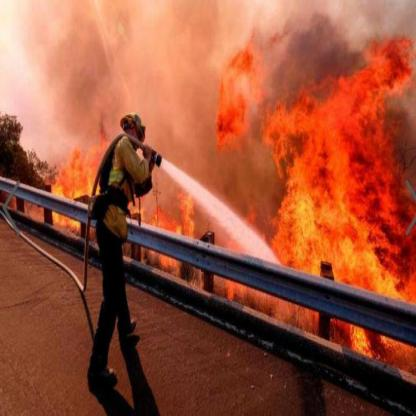fire: (210, 10, 413, 366), (48, 123, 113, 238), (127, 182, 202, 273), (8, 187, 45, 223)
smoke: (54, 11, 109, 120), (162, 26, 208, 156)
